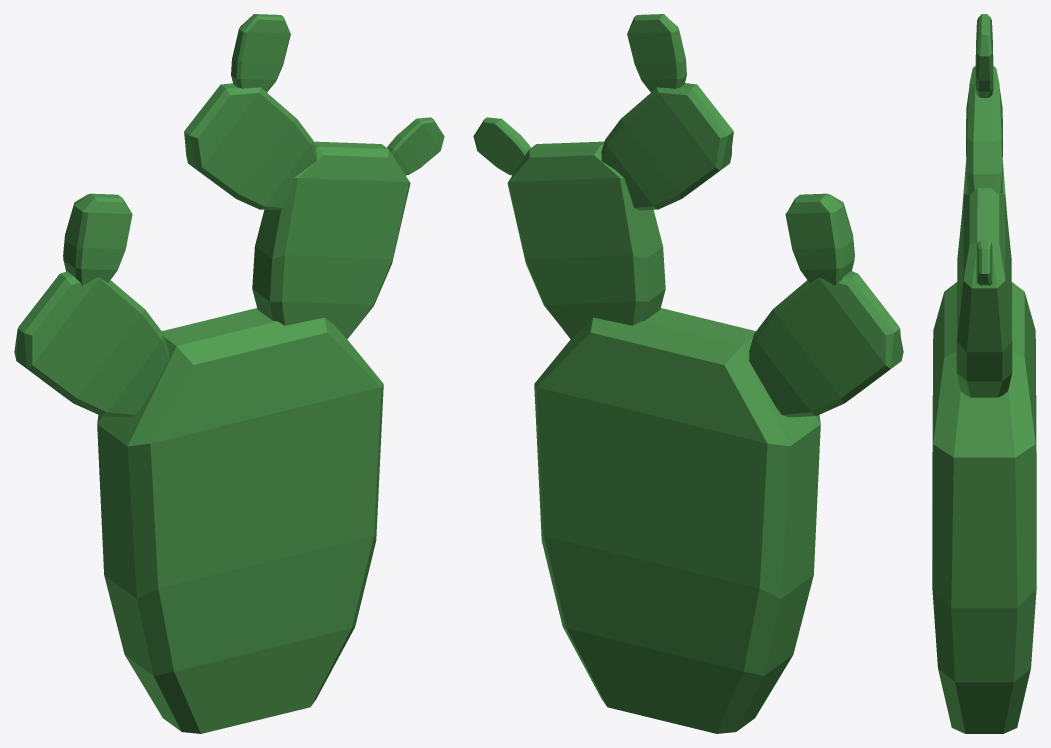
File: Desert_Cactus03.fbx
3 views of the same model, side by side, from view 1: azimuth 30°, elevation 25°; view 2: azimuth 150°, elevation 25°; view 3: azimuth 270°, elevation 25° (orthographic).
Parts seen in each view (by area): view 1: Cactus3; view 2: Cactus3; view 3: Cactus3.
Part boxes in pixels (x1,y1,x2,y2): Cactus3: (14,14,444,733); Cactus3: (473,14,903,733); Cactus3: (932,14,1036,733).
Size of the model in its own units: 58.7 by 12.47 by 91.58.
